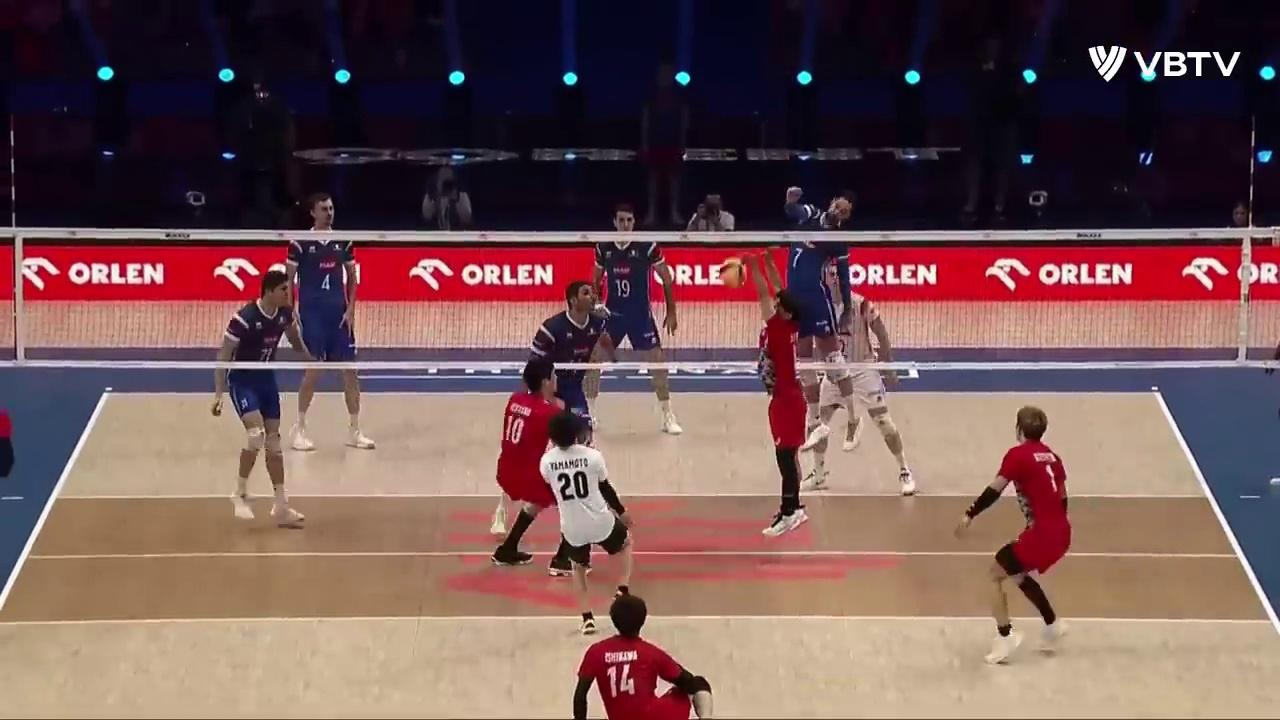ball: (723, 260, 746, 288)
